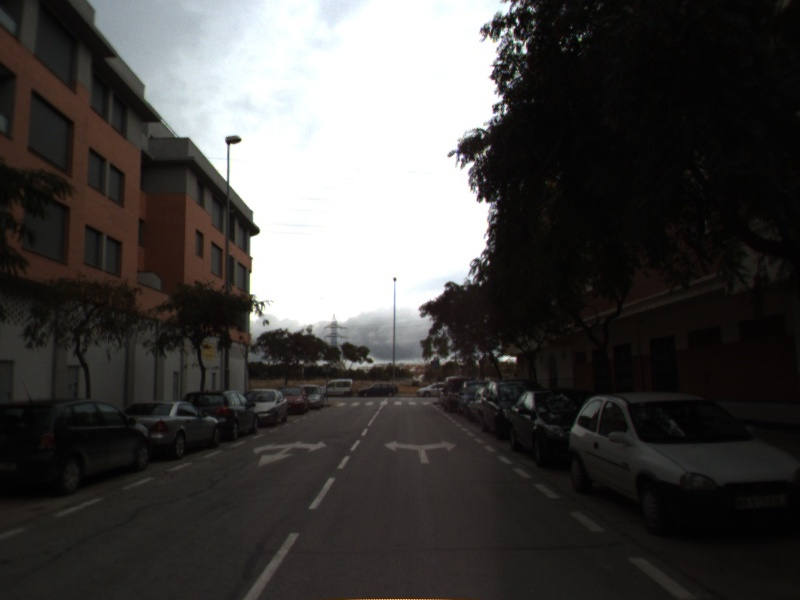LEFT_RIGHT: (382, 437, 458, 465)
